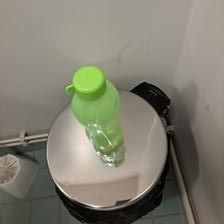bottle: (63, 64, 123, 153)
